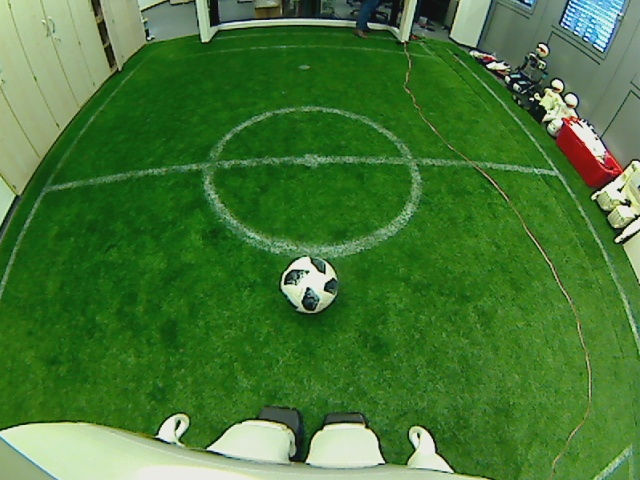ball: (277, 255, 342, 314)
